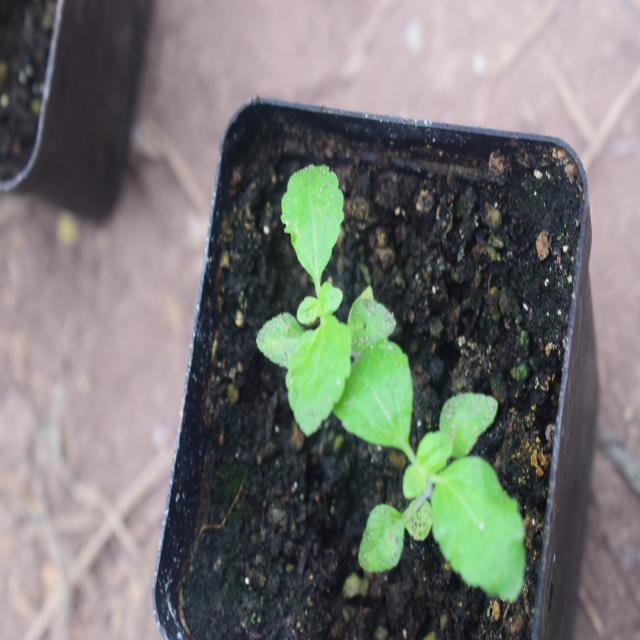billygoat_weed: (352, 346, 522, 596), (246, 140, 372, 445)
